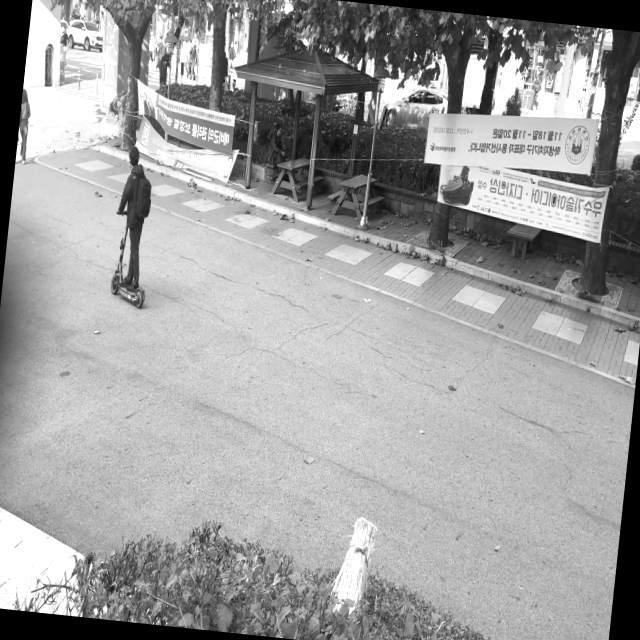bare_head: (124, 144, 149, 166)
human: (118, 138, 148, 290)
kickboard: (108, 269, 153, 319)
